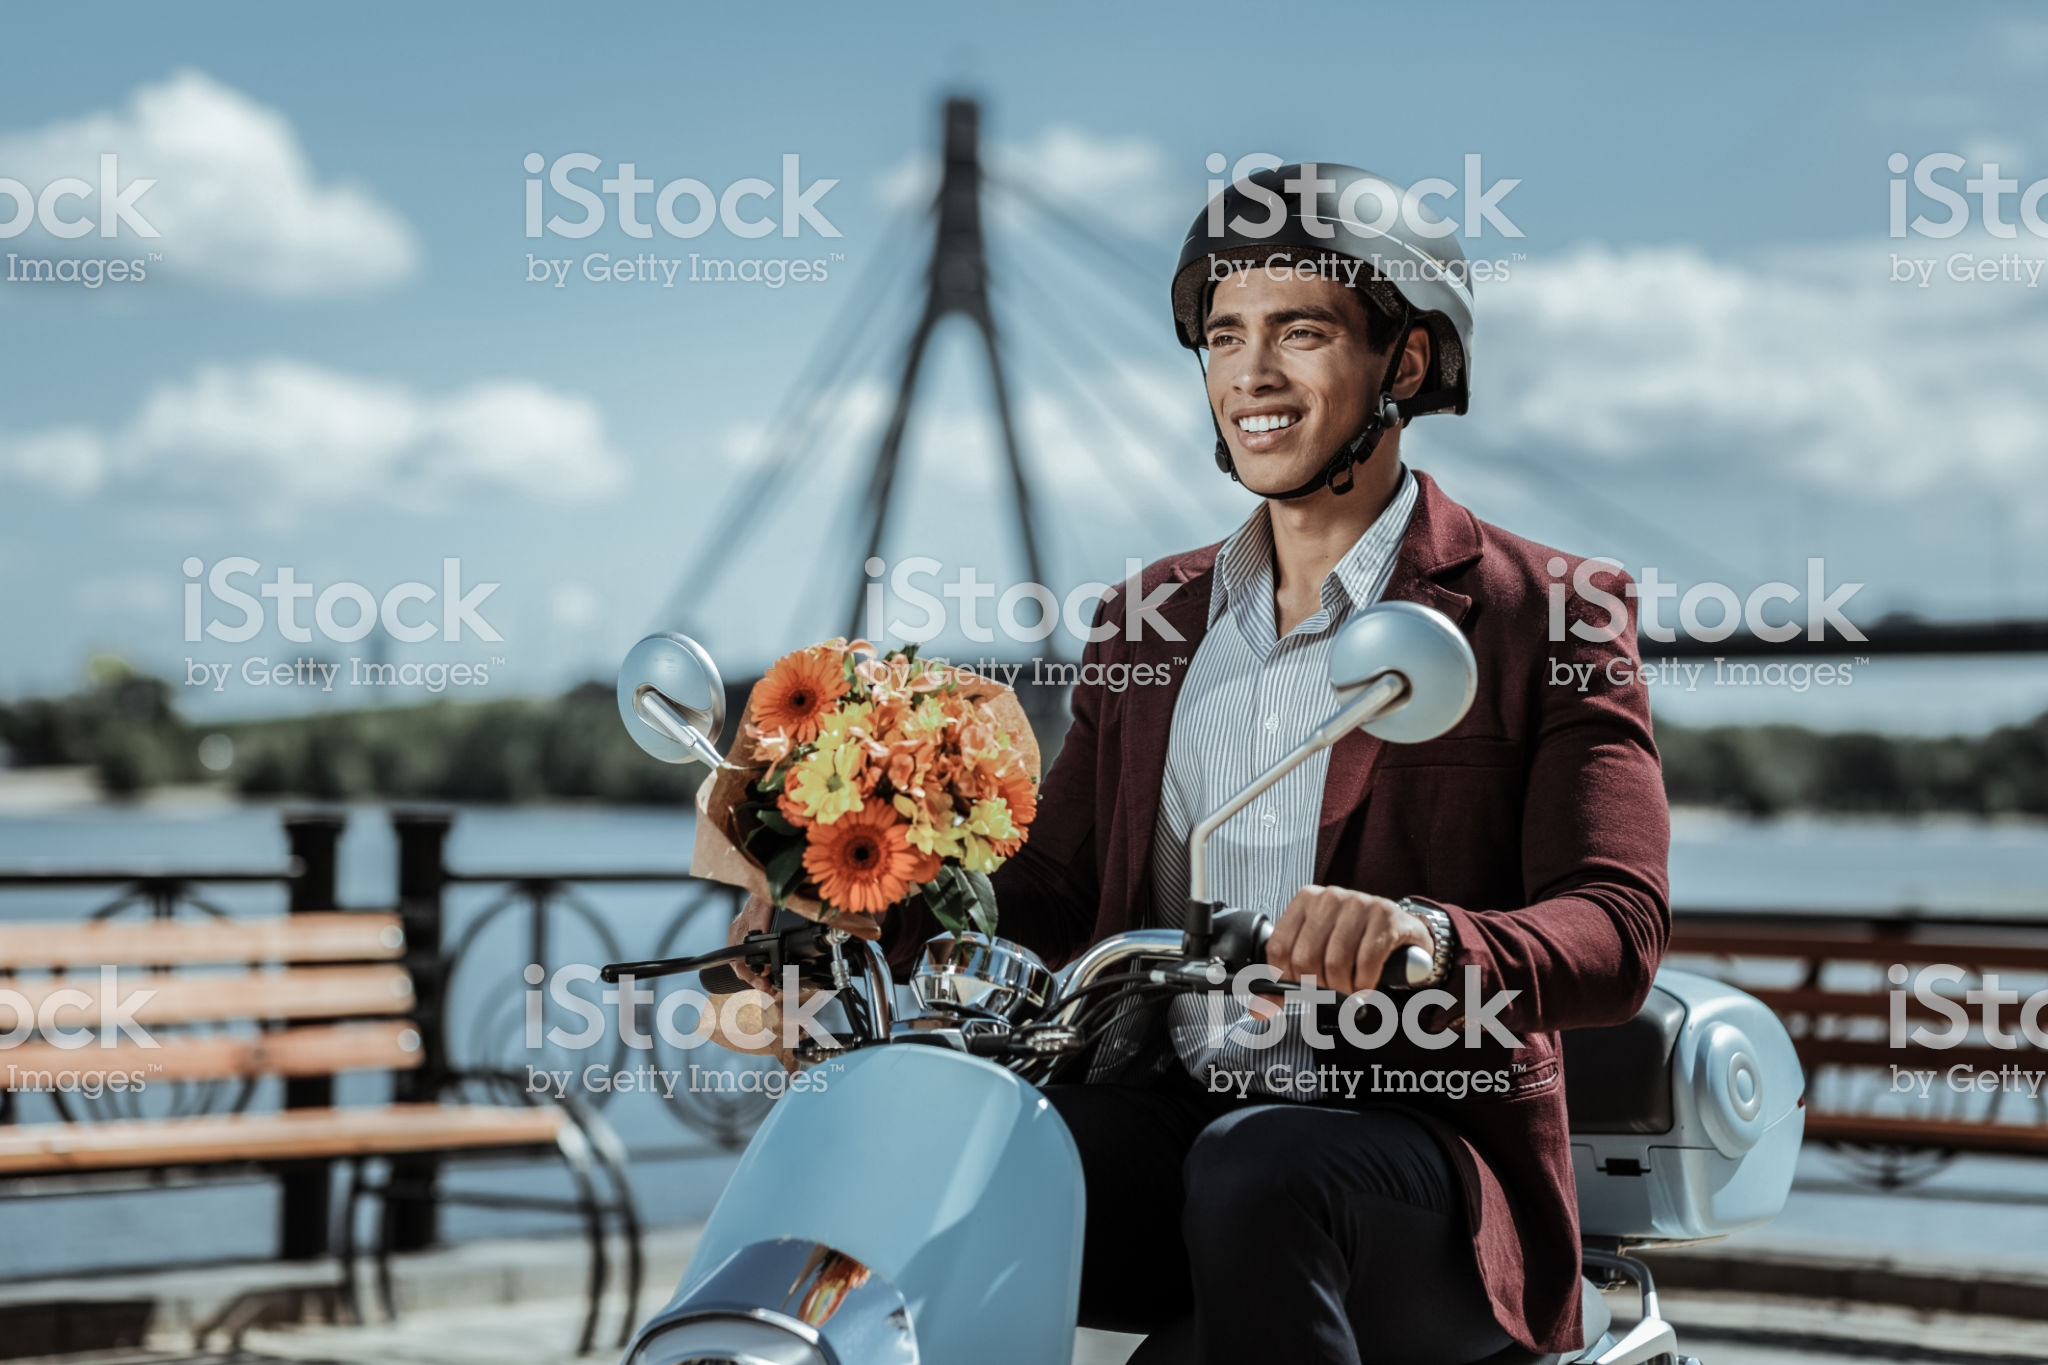helmet: (1172, 140, 1494, 392)
